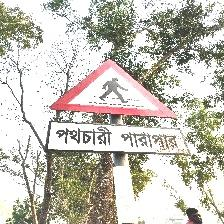Pedestrian-crossing: (47, 58, 189, 159)
